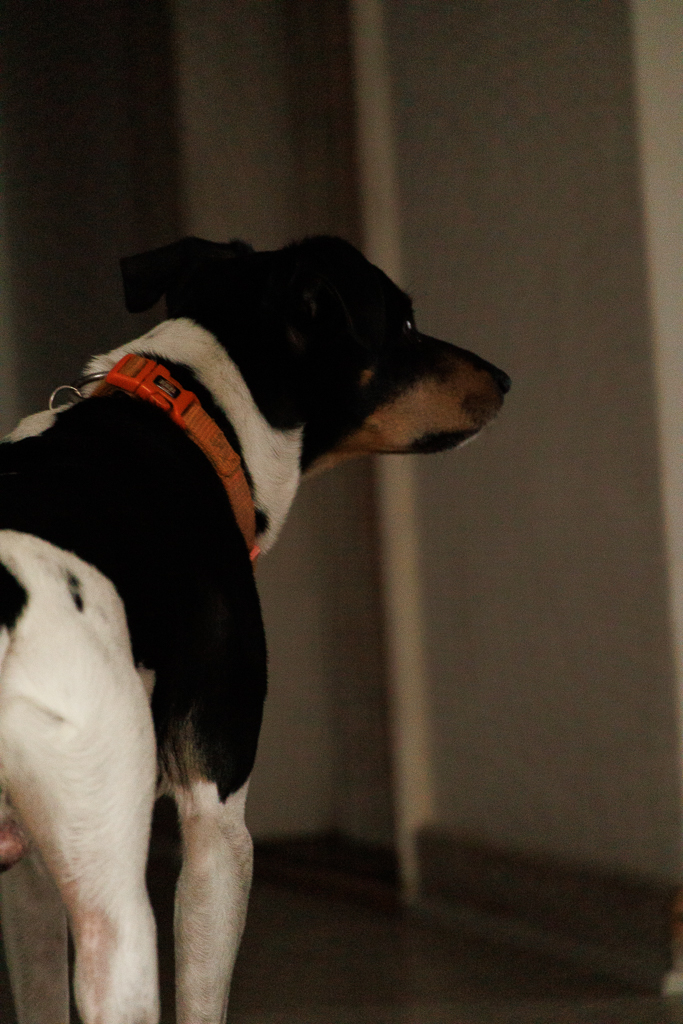Dog: (0, 224, 529, 1024)
